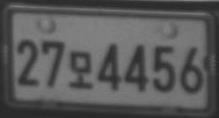2: (17, 39, 39, 86)
4: (123, 43, 149, 91), (96, 43, 122, 90)
5: (152, 46, 177, 91)
6: (179, 46, 203, 93)
7: (42, 41, 65, 87)
모: (68, 51, 92, 89)
